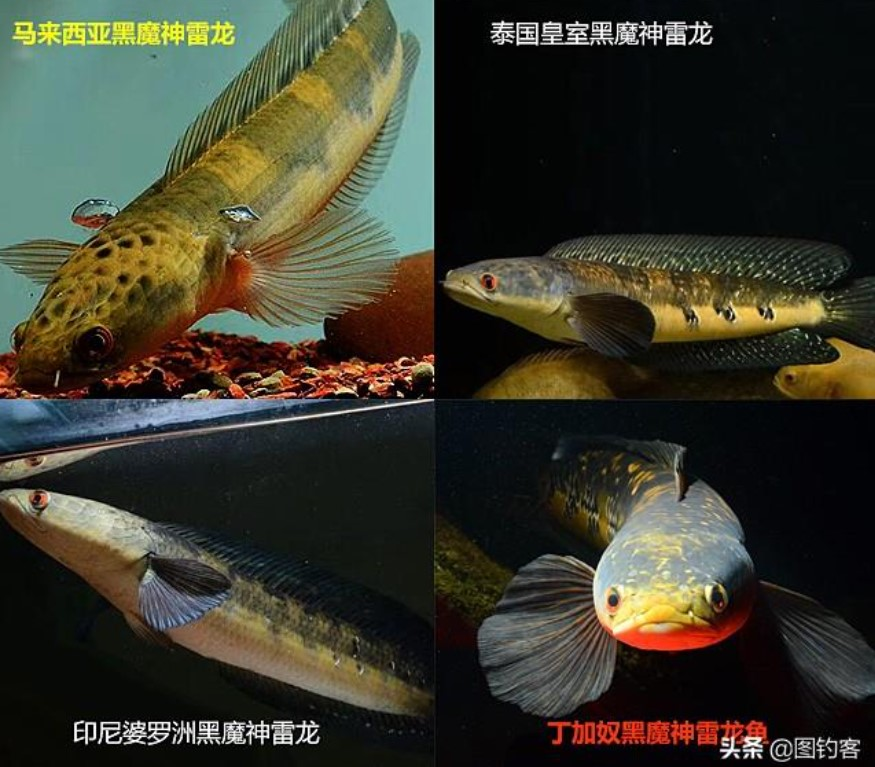Fish: (0, 1, 416, 391), (1, 471, 458, 736), (472, 422, 875, 720), (433, 213, 875, 378)
